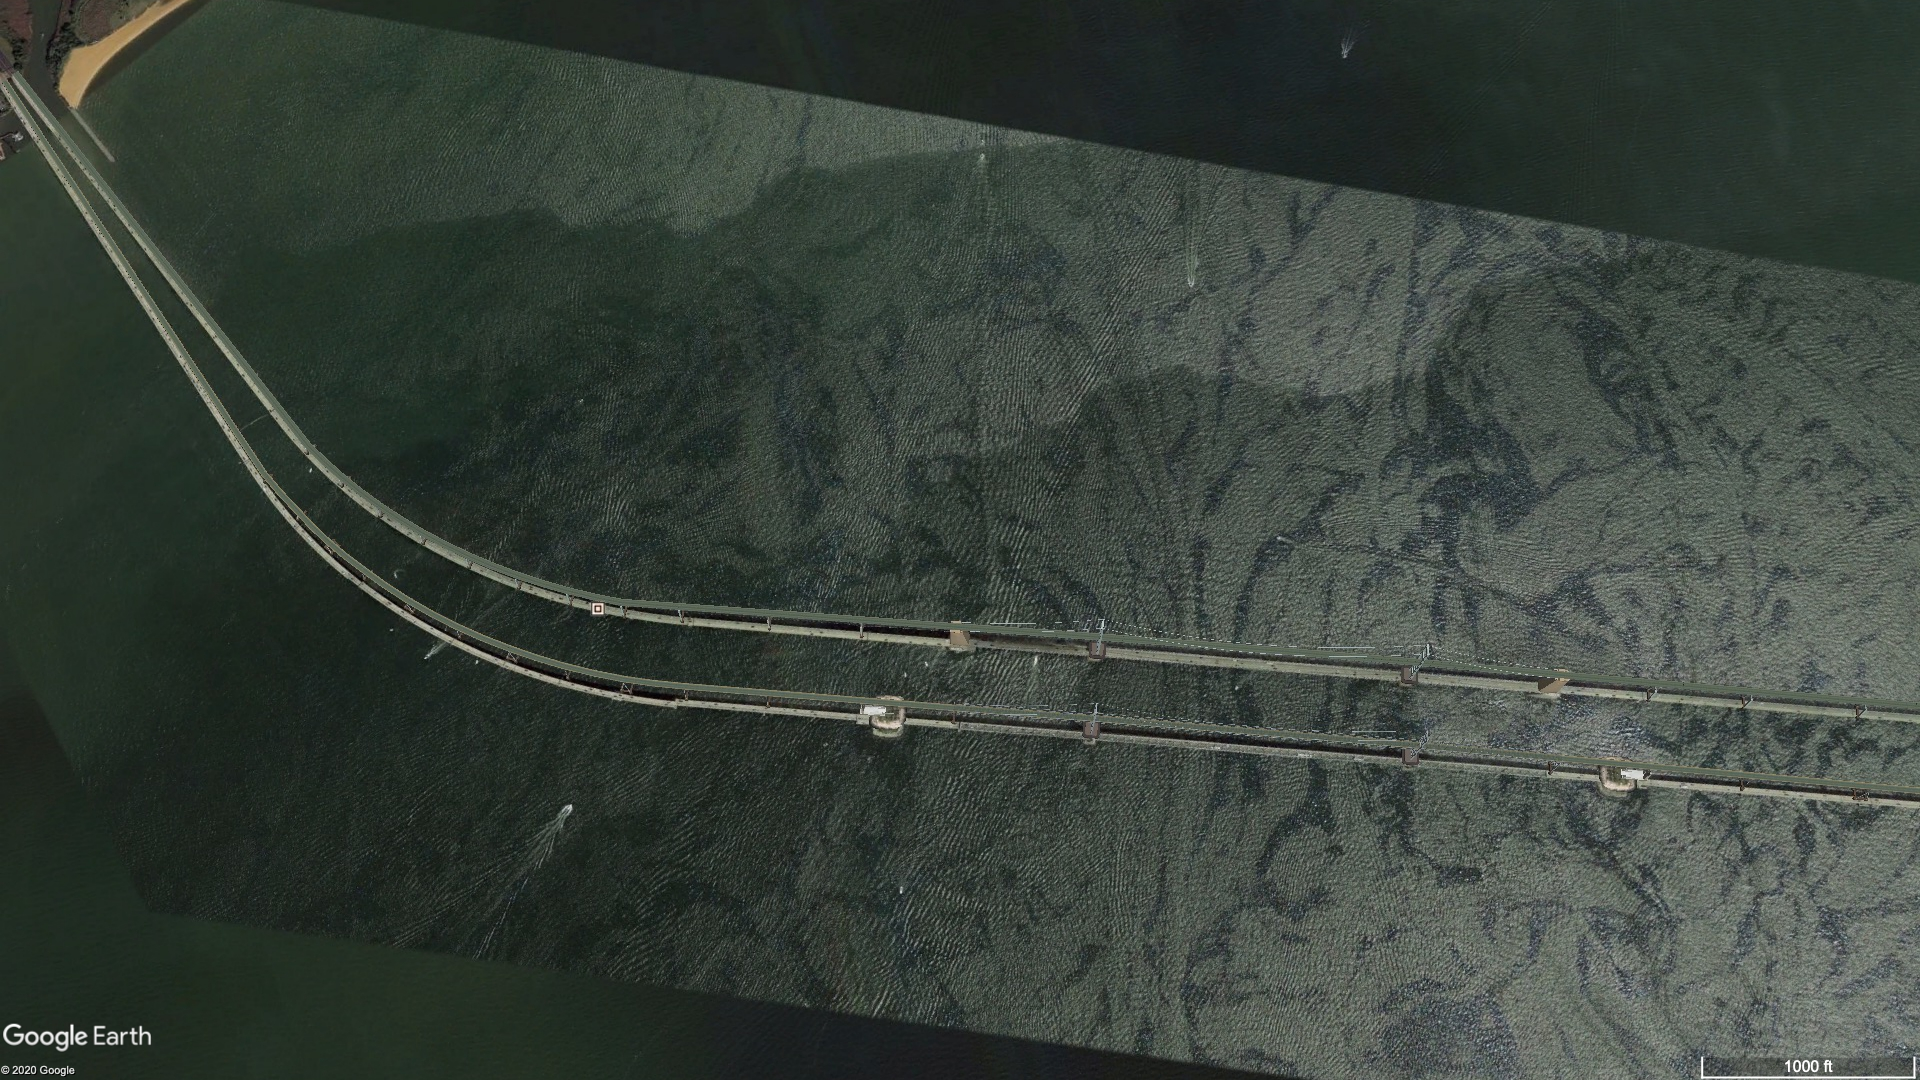boat: (1340, 49, 1350, 61), (1031, 655, 1038, 669), (1187, 277, 1195, 287), (566, 803, 574, 811), (899, 885, 905, 895), (978, 138, 985, 145), (865, 756, 872, 761), (978, 154, 984, 160), (393, 574, 398, 579), (1234, 684, 1240, 690), (1275, 535, 1280, 541), (309, 467, 313, 473), (924, 661, 928, 667), (822, 742, 828, 746), (475, 659, 479, 665), (579, 398, 583, 402), (389, 628, 393, 632), (423, 655, 426, 661), (905, 673, 907, 678)
